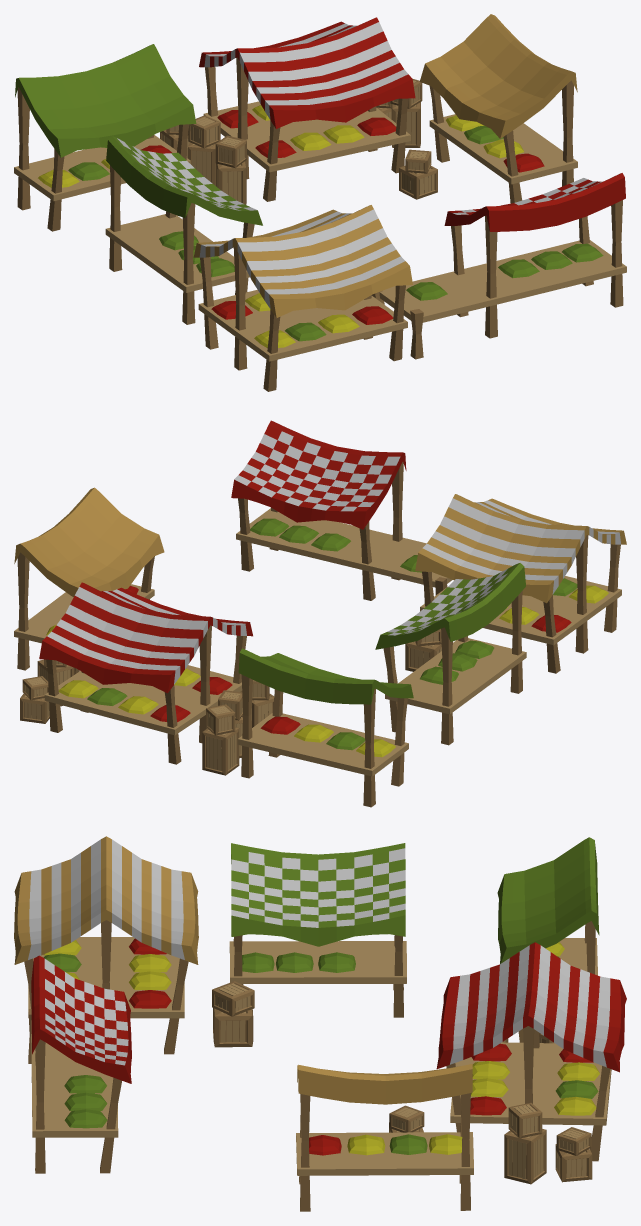
File: Village Market.glb
The picture shows the model from 3 angles, top to bottom: view 1: azimuth 30°, elevation 25°; view 2: azimuth 150°, elevation 25°; view 3: azimuth 270°, elevation 25°; orthographic projection. The views are drawn at different scales.
Parts seen in each view (by area): view 1: Market_FirstAge_Level3; view 2: Market_FirstAge_Level3; view 3: Market_FirstAge_Level3.
Boxes of the visible parts, left/top/right/bottom form: Market_FirstAge_Level3: left=14, top=14, right=626, bottom=391; Market_FirstAge_Level3: left=14, top=420, right=626, bottom=807; Market_FirstAge_Level3: left=14, top=836, right=626, bottom=1211.
Bounding box in the file's own units: 1.89 × 0.5526 × 2.11.
